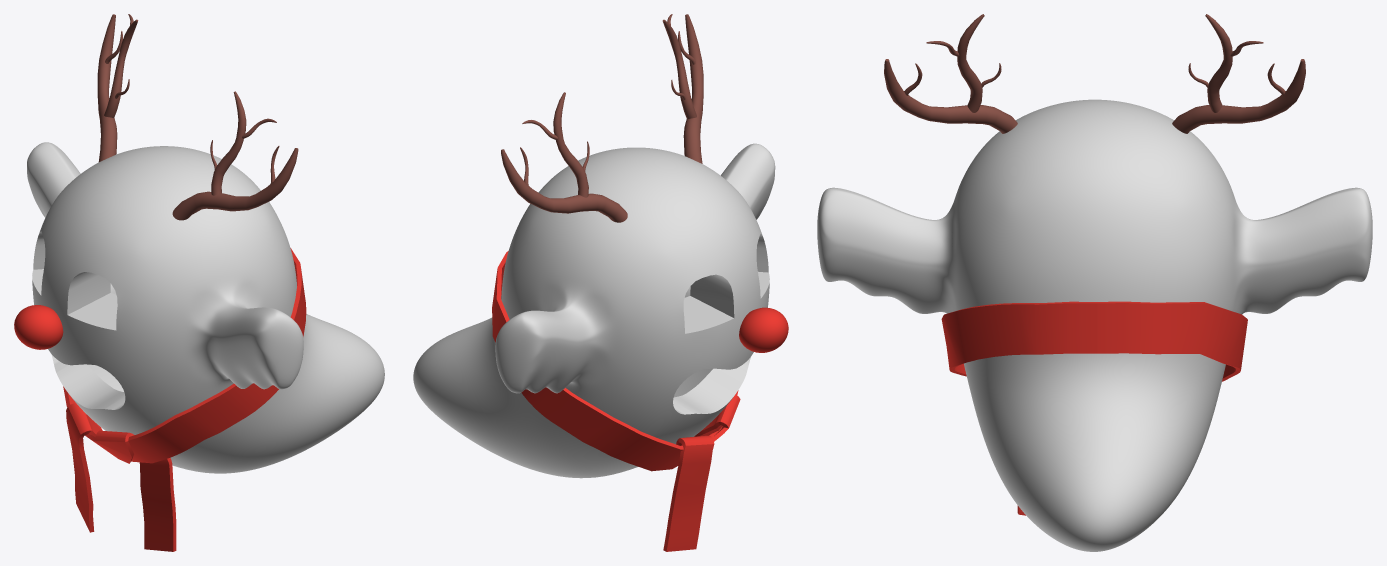
File: fantome_goffy.fbx
3 views of the same model, side by side, from view 1: azimuth 30°, elevation 25°; view 2: azimuth 150°, elevation 25°; view 3: azimuth 270°, elevation 25° (orthographic). The views are drawn at different scales.
Visible parts, largest first — view 1: fantome, echarpe, Ramure, Nz; view 2: fantome, echarpe, Ramure, Nz; view 3: fantome, echarpe, Ramure.
Boxes of the visible parts, x1,y1,x2,y2 form: fantome: (27, 142, 384, 473); echarpe: (63, 248, 306, 551); Ramure: (97, 14, 298, 220); Nz: (14, 305, 63, 349); fantome: (413, 143, 775, 478); echarpe: (492, 251, 740, 551); Ramure: (501, 14, 703, 222); Nz: (739, 307, 788, 352); fantome: (817, 99, 1372, 551); echarpe: (941, 301, 1247, 515); Ramure: (884, 14, 1305, 133).
Size of the model in its own units: 1171 by 1448 by 1362.
